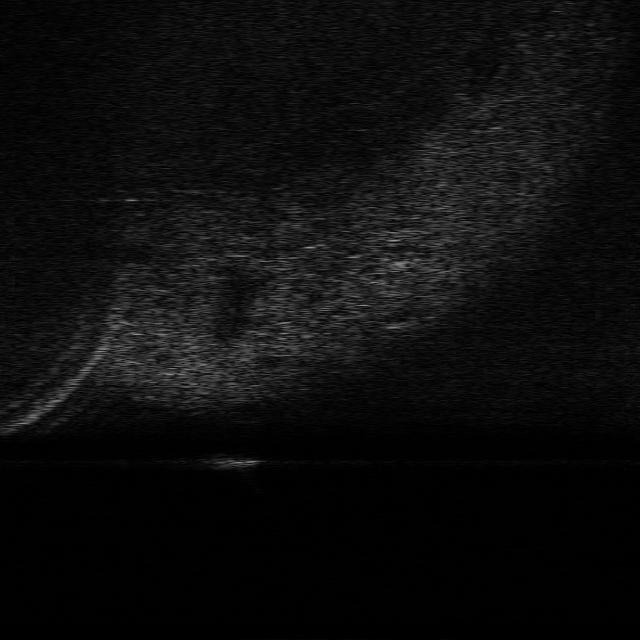cube: (203, 453, 265, 474)
